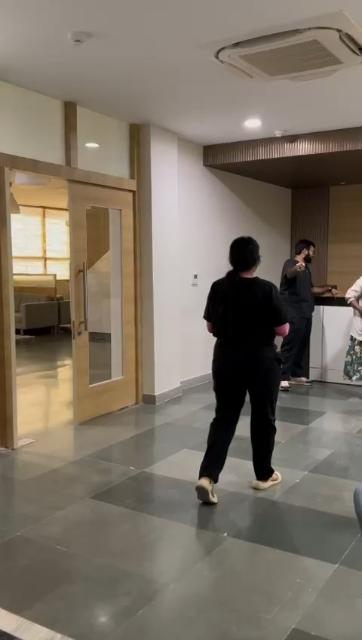door: (67, 172, 144, 418)
floor: (0, 342, 362, 637)
moving-obj: (194, 222, 296, 512), (286, 242, 336, 388)
object: (14, 270, 62, 340)
wall: (148, 129, 288, 394)
